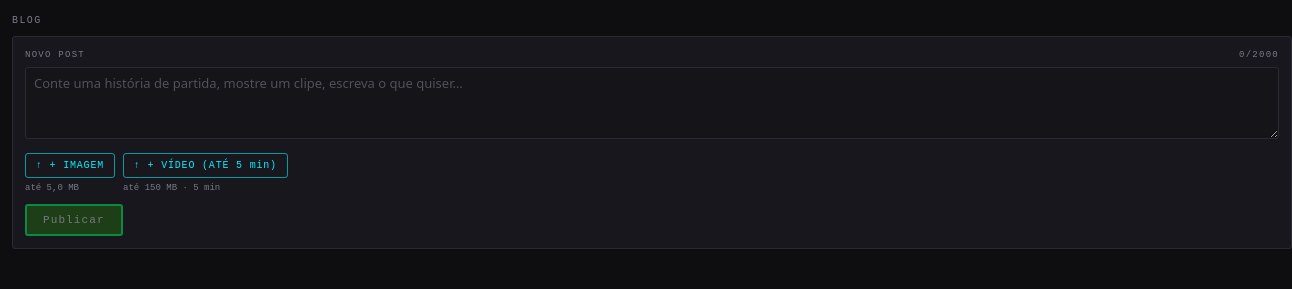
Scenario: BlogDoPerfil — escrever › erro do servidor aparece e o texto digitado é mantido
Replace the text in the text box with "oi": coordinates (652, 103) top-left (25, 66), bottom-right (1279, 139)
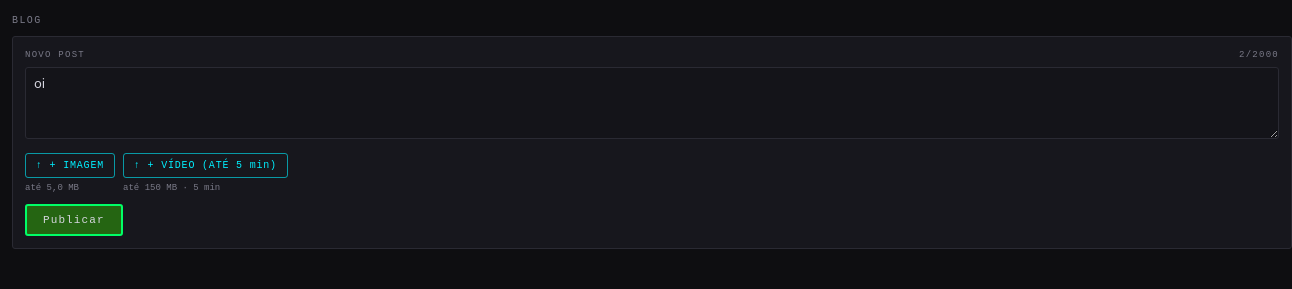
Click the button "Publicar": coordinates (74, 220) top-left (25, 204), bottom-right (123, 236)
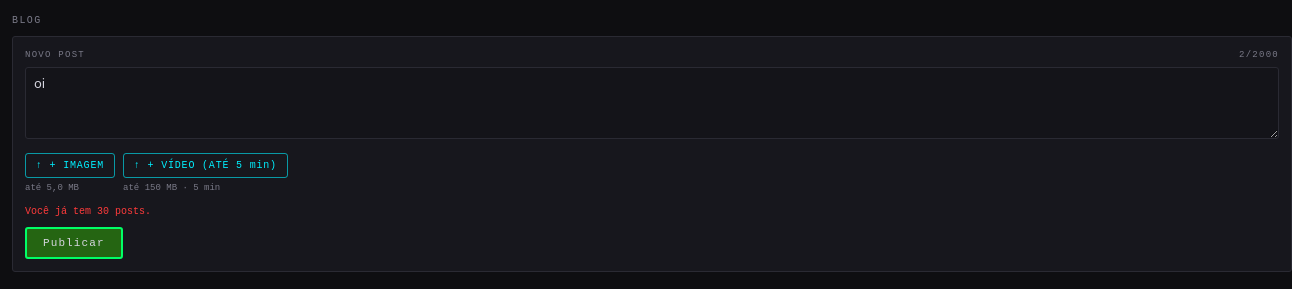
Result: the text "Você já tem 30 posts." is shown at top-left (25, 206), bottom-right (151, 216)
